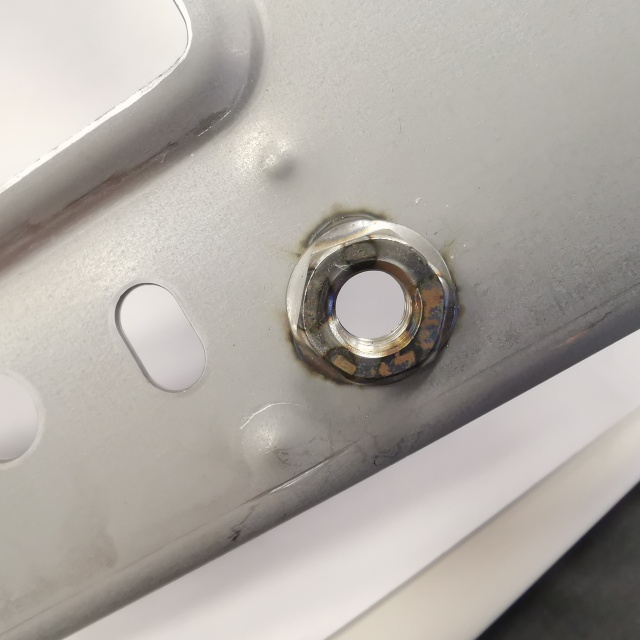dog: (281, 200, 456, 392)
